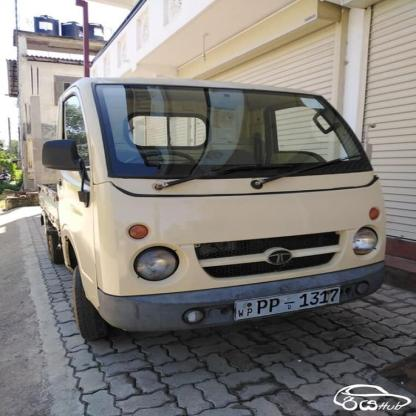Lorry front: (13, 70, 398, 357)
number plate: (232, 281, 349, 321)
